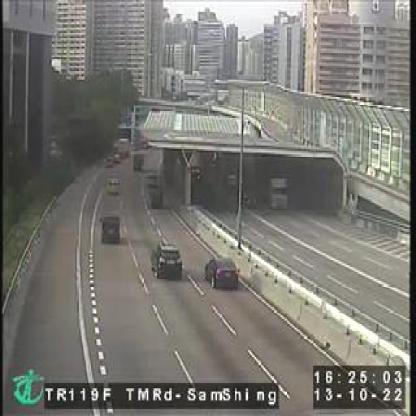Car: (154, 240, 184, 278), (206, 258, 240, 289), (101, 216, 120, 244), (108, 176, 120, 194)
Truck: (268, 171, 290, 209)
